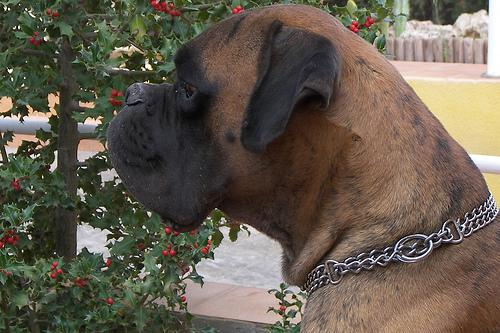dog-boxer: (106, 3, 340, 230)
